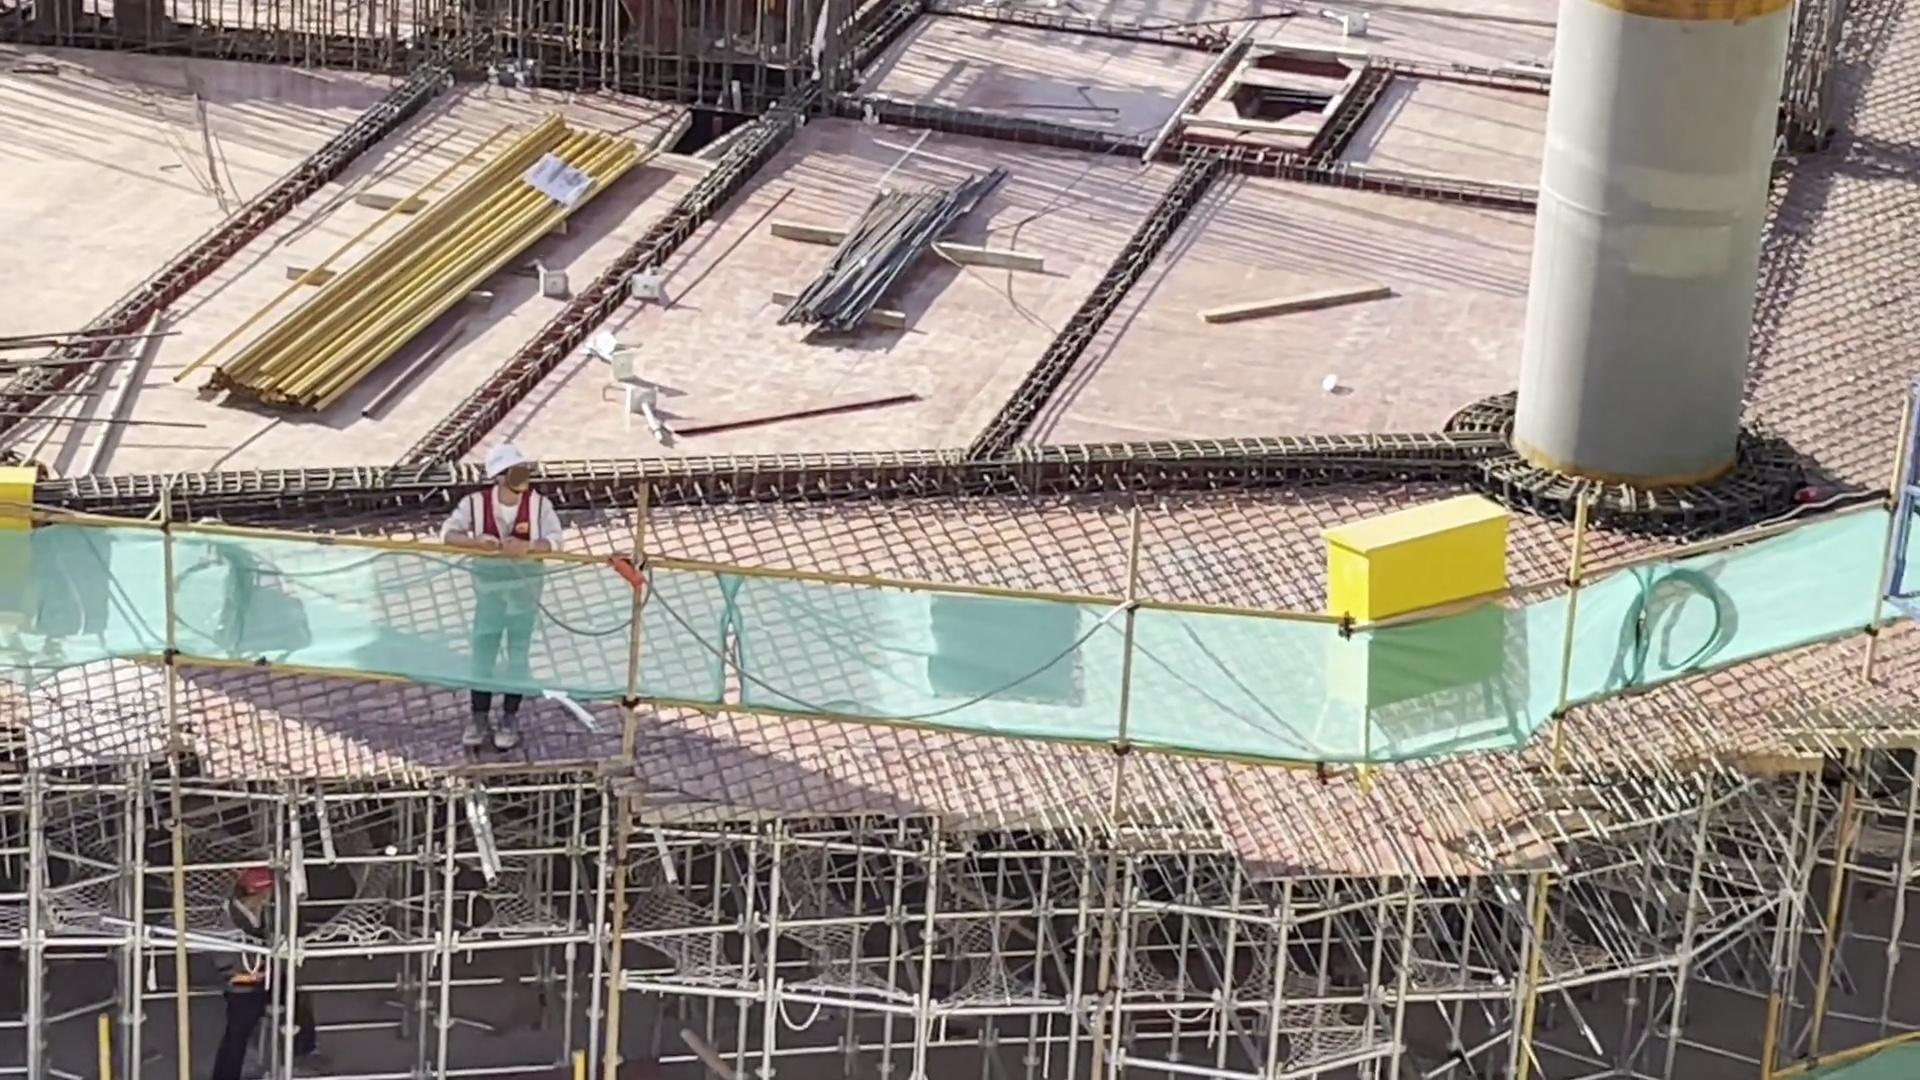ebox: (1323, 487, 1511, 712), (1, 459, 63, 629)
helmet: (479, 436, 543, 504), (241, 841, 269, 887)
person: (456, 443, 549, 736), (223, 831, 306, 1036)
rebar: (784, 150, 1013, 336)
vest: (446, 499, 536, 616), (241, 907, 274, 1016)
